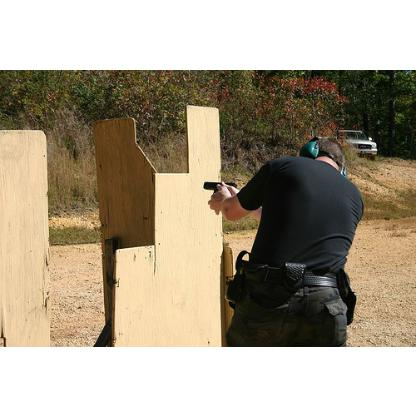gun: (202, 180, 236, 214)
